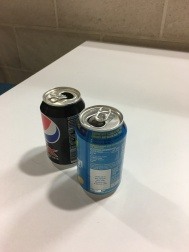can_black: (35, 81, 85, 170)
can_blue: (78, 104, 127, 203)
